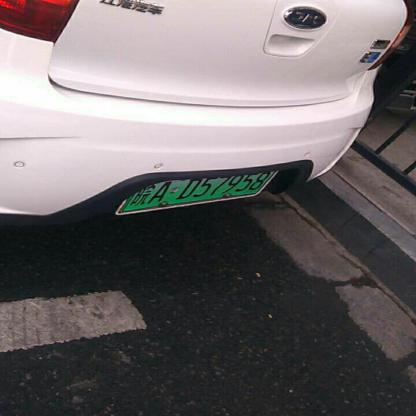lp: (121, 170, 276, 212)
